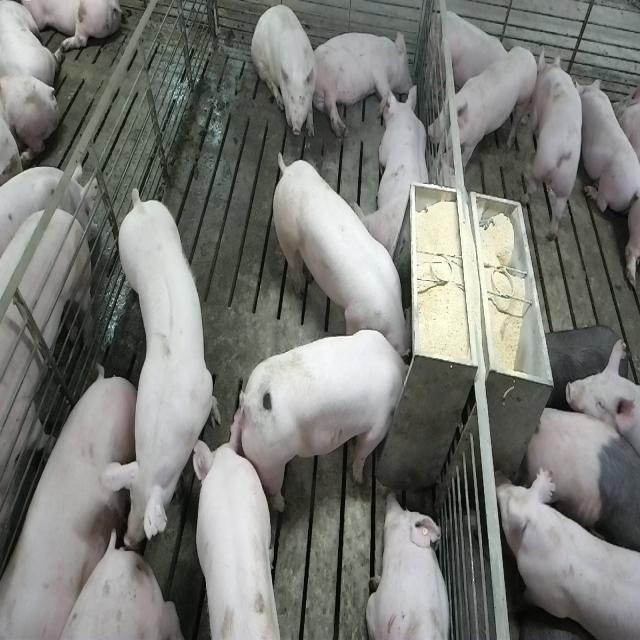Feeding: (240, 328, 419, 513), (268, 143, 410, 358)
Lateral_lying: (310, 28, 416, 140)
Sitting: (252, 4, 318, 144)
Standing: (0, 200, 96, 640), (112, 190, 220, 563), (500, 462, 640, 638), (523, 396, 639, 569), (195, 440, 288, 640), (428, 46, 539, 176)
Sternal_lying: (366, 490, 454, 640), (360, 84, 432, 264), (528, 49, 587, 242), (577, 70, 639, 216), (427, 4, 516, 95)
